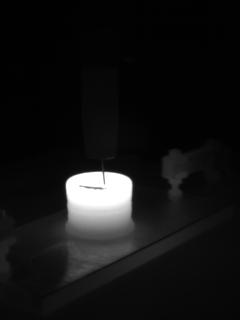tip_wire_left: (86, 154, 106, 187)
tip_wire_right: (103, 154, 117, 187)
